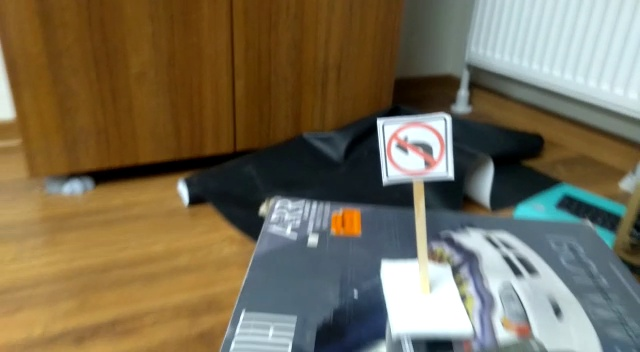sola_donulmez: (386, 115, 446, 179)
